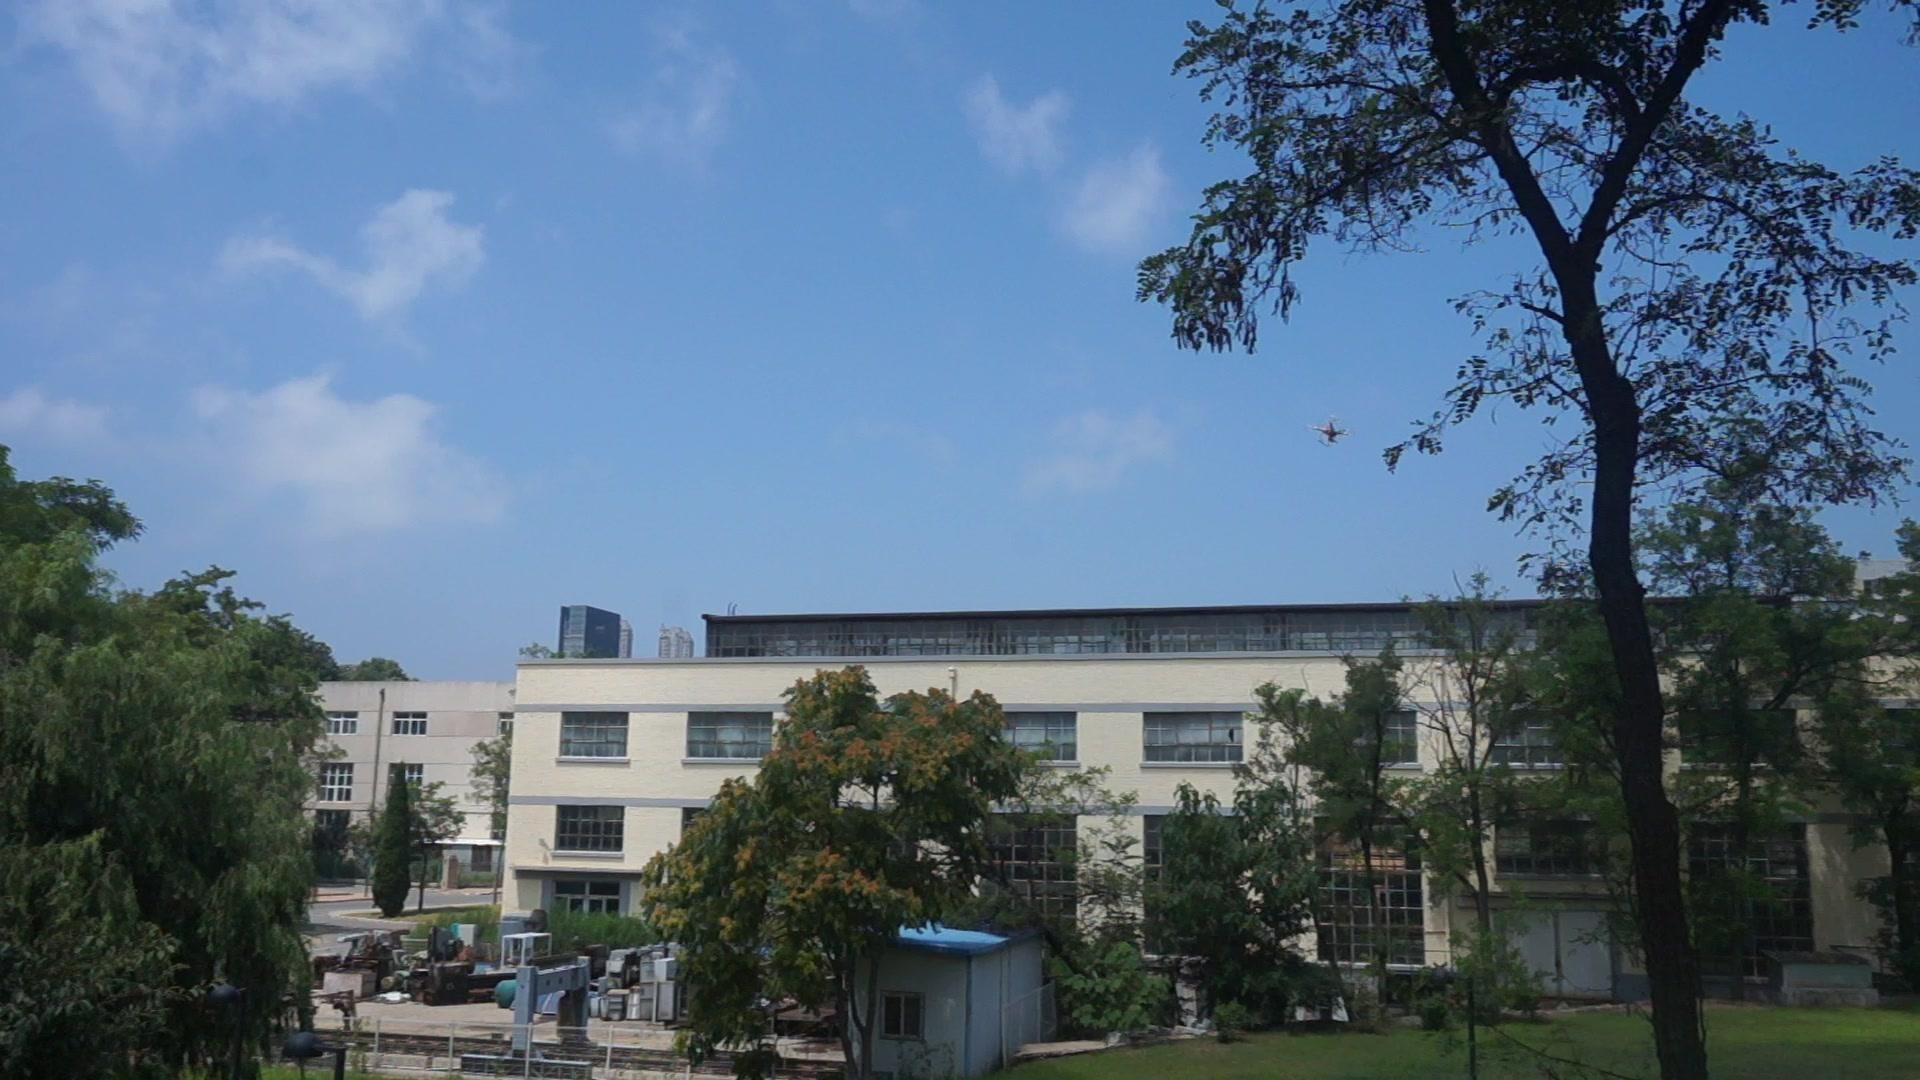UAV: (1304, 415, 1356, 447)
